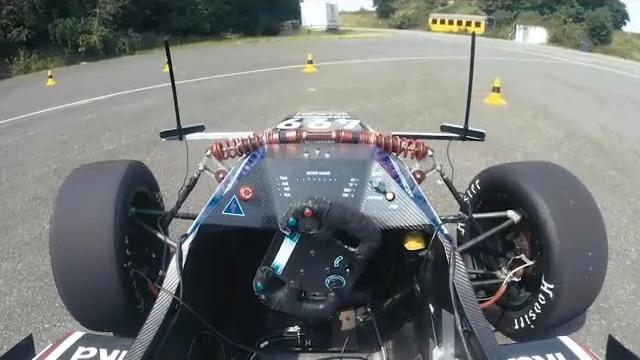yellow_cone: (484, 76, 507, 106), (302, 53, 317, 73), (45, 70, 56, 87), (165, 56, 173, 72)
